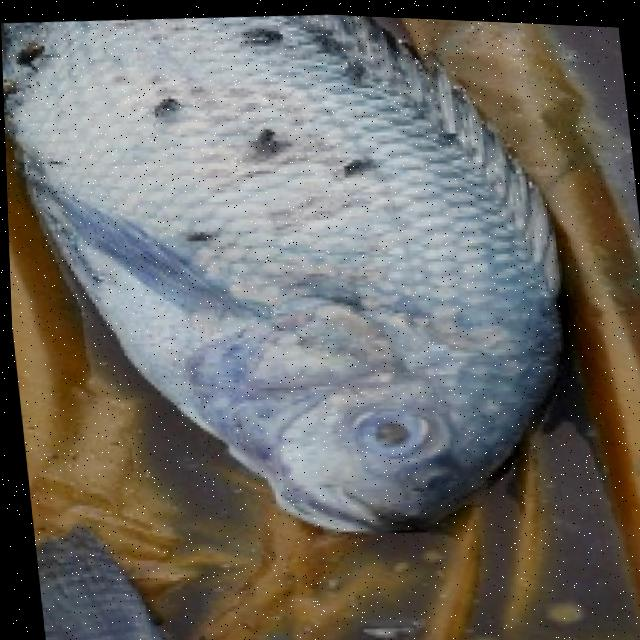Non-Fresh: (8, 0, 556, 534)
